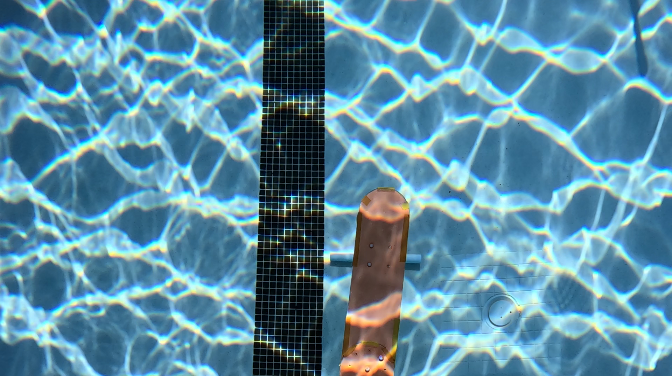pathmarker: (339, 188, 408, 373)
